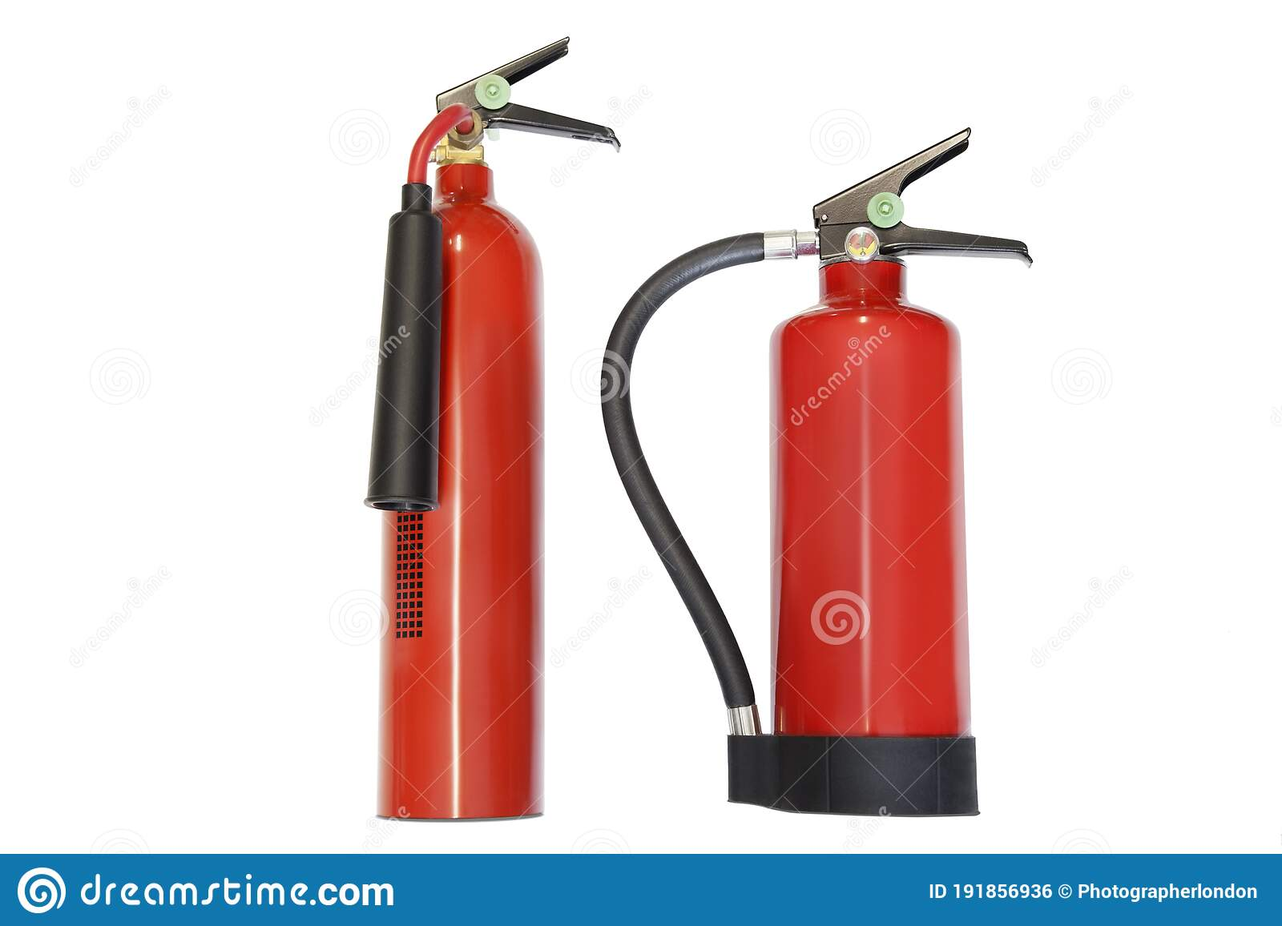fire_extinguisher: (599, 126, 1034, 818), (364, 35, 621, 822)
